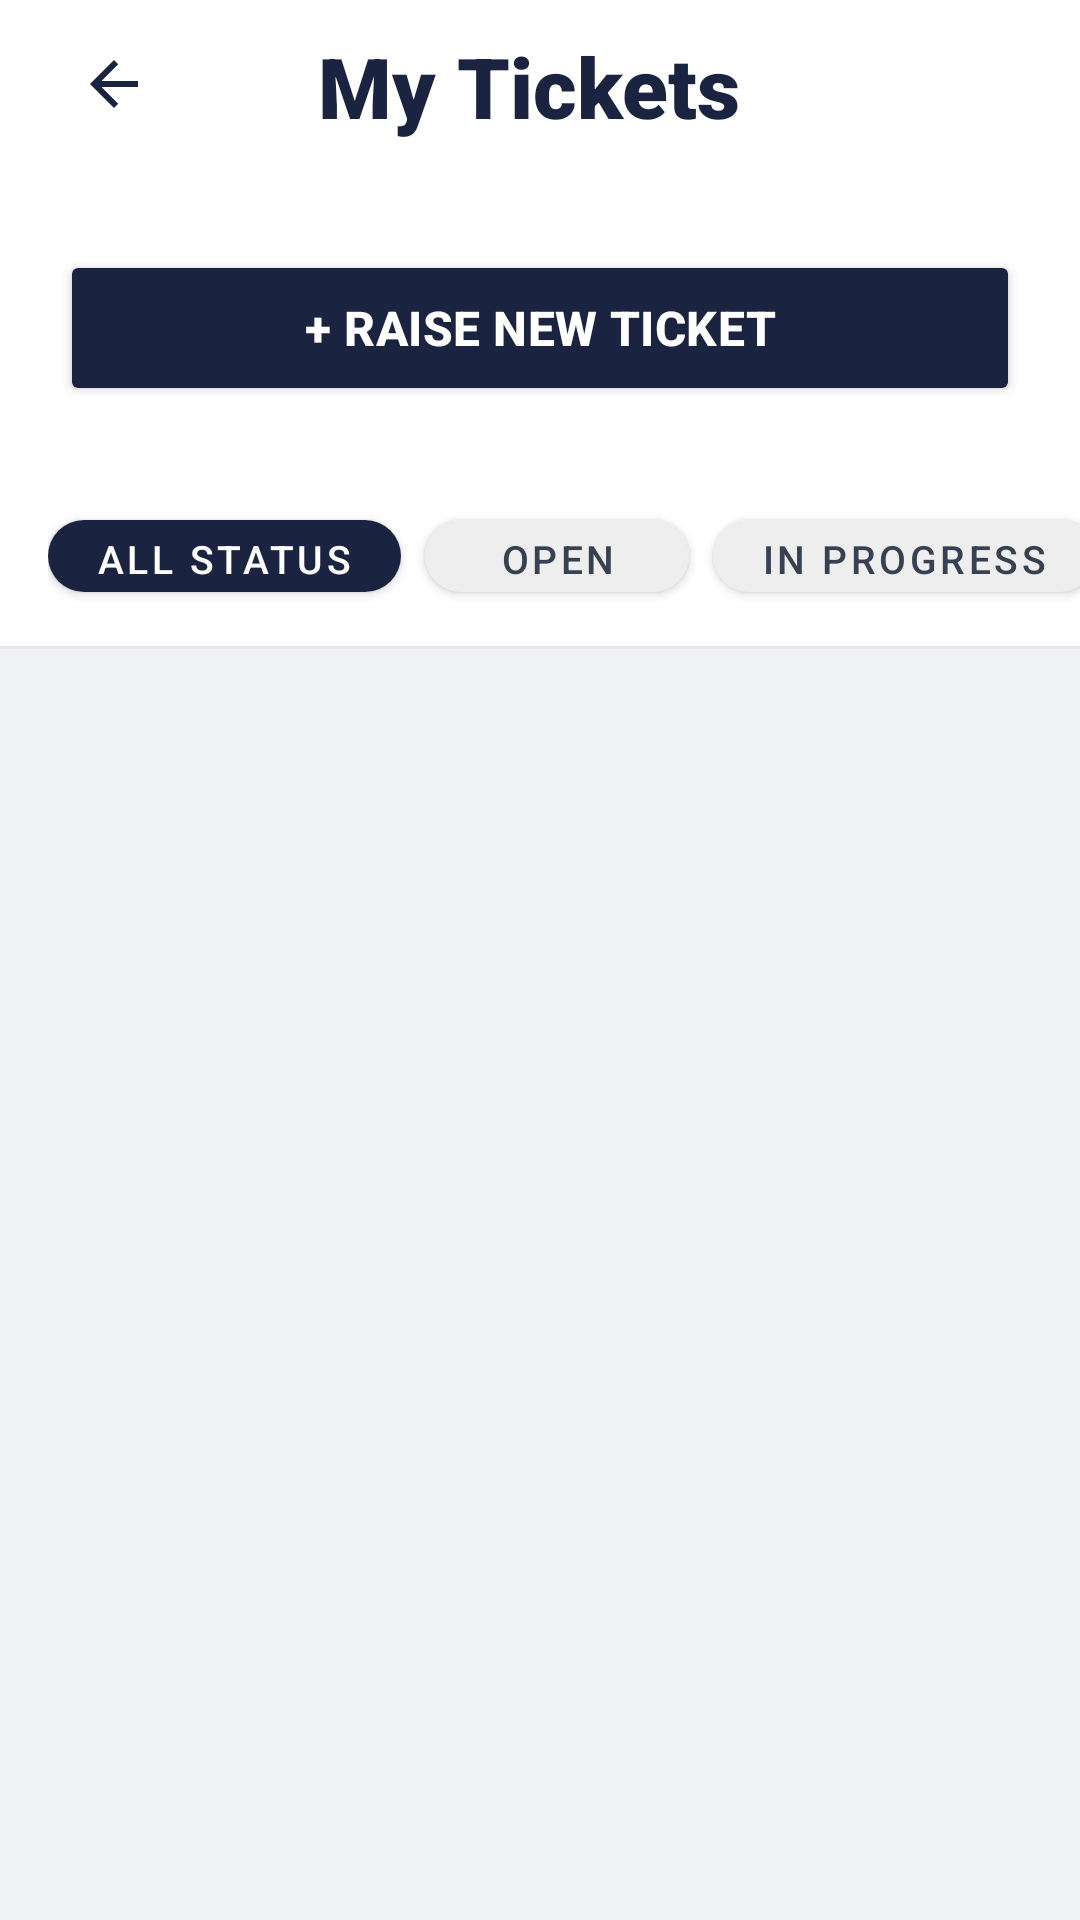

Where icons sit on this 1080 × 1920 app screen, as (x1, y1, x2, y2):
back: (90, 60, 138, 108)
